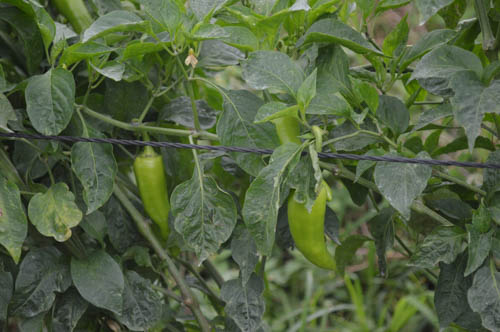ChiliPepper: (287, 182, 334, 271), (131, 154, 168, 233)
